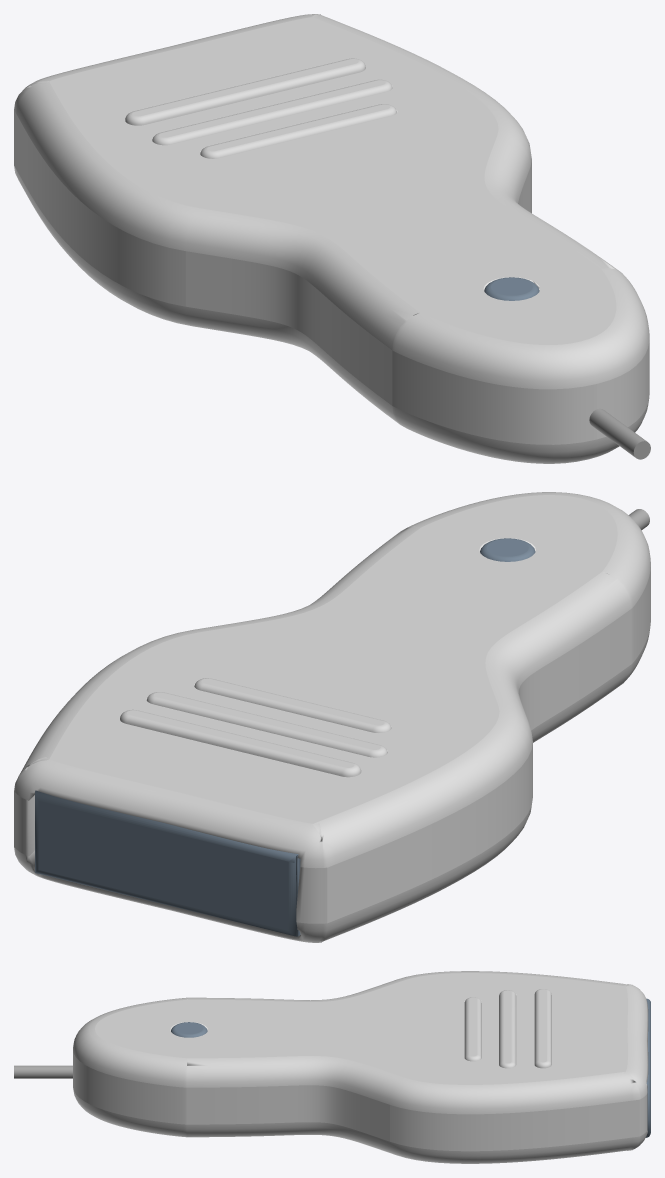
File: probe.dae
The picture shows the model from 3 angles, top to bottom: view 1: azimuth 30°, elevation 25°; view 2: azimuth 150°, elevation 25°; view 3: azimuth 270°, elevation 25°; orthographic projection. The views are drawn at different scales.
Parts seen in each view (by area): view 1: SketchUp (×6); view 2: SketchUp (×6); view 3: SketchUp (×7).
Part boxes in pixels (bbox=[...]): SketchUp (×6): bbox=[14, 14, 650, 463]; SketchUp (×6): bbox=[14, 492, 650, 942]; SketchUp (×7): bbox=[14, 971, 650, 1163].
Bounding box in the file's own units: 77.12 × 159 × 23.51.
